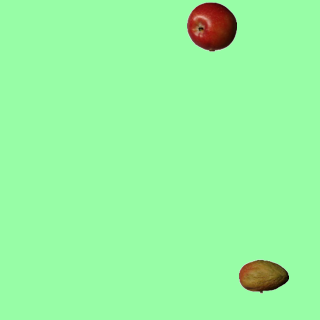Apple Braeburn: (186, 1, 236, 51)
Papaya: (238, 251, 288, 301)
